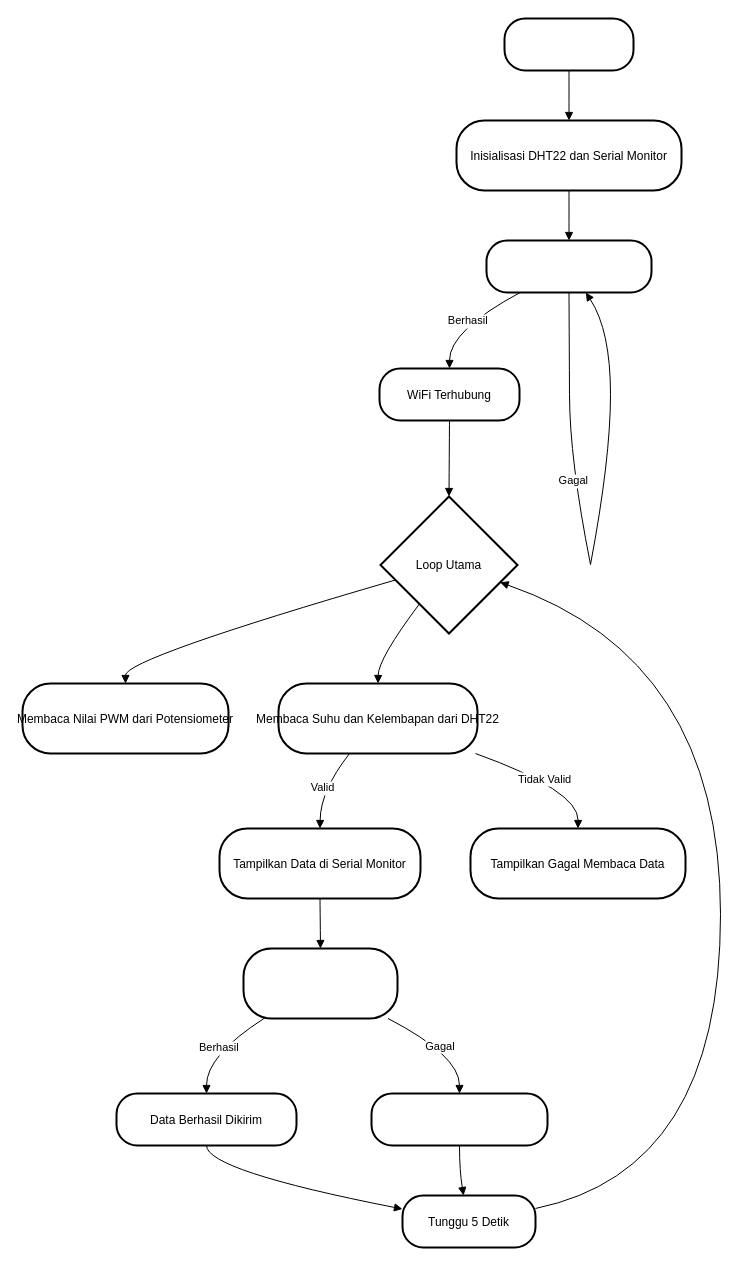
Image size: 738x1265. Some labels were removed from this diagram. Here are the shapes that lost their labels. From the top down, the centre of each, then its label:
the point at 568,44: Mulai Program
the point at 568,266: Hubungkan ke WiFi
the point at 320,983: Mengirim Data ke ThingSpeak
the point at 459,1119: Gagal Mengirim Data
